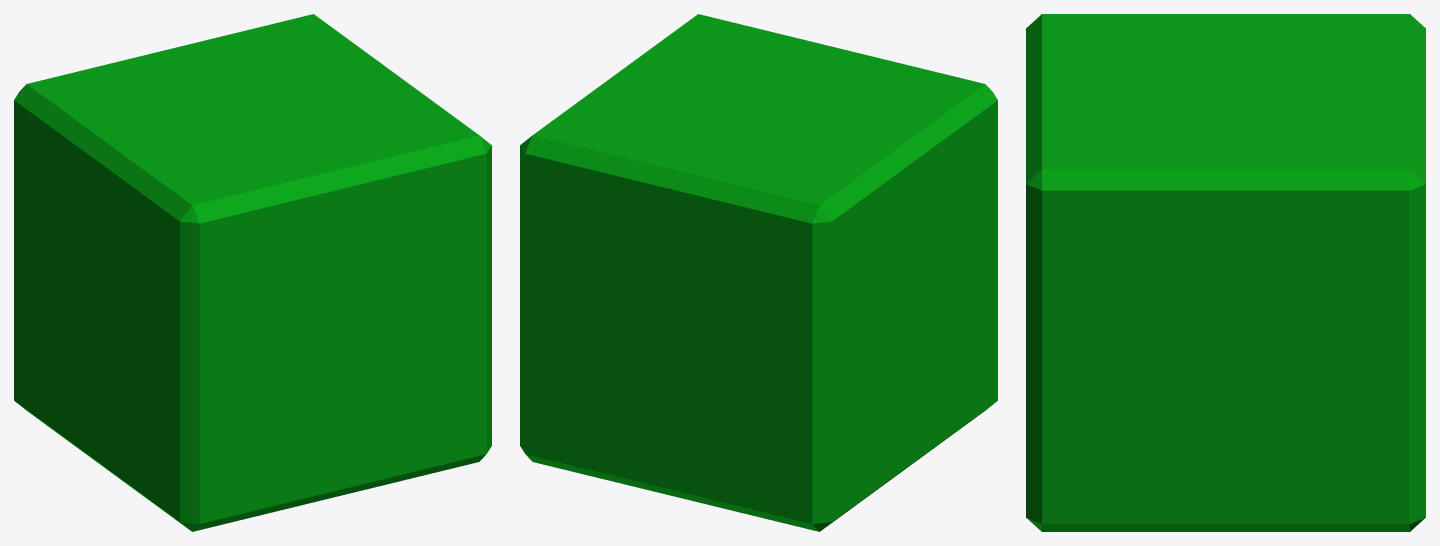
File: golf_1_.014.fbx
3 views of the same model, side by side, from view 1: azimuth 30°, elevation 25°; view 2: azimuth 150°, elevation 25°; view 3: azimuth 270°, elevation 25° (orthographic). The views are drawn at different scales.
Parts seen in each view (by area): view 1: golf_1_.014; view 2: golf_1_.014; view 3: golf_1_.014.
Part boxes in pixels (x1,y1,x2,y2): golf_1_.014: (14,14,491,531); golf_1_.014: (520,14,997,531); golf_1_.014: (1026,14,1425,531).
Size of the model in its own units: 30 by 30 by 30.
